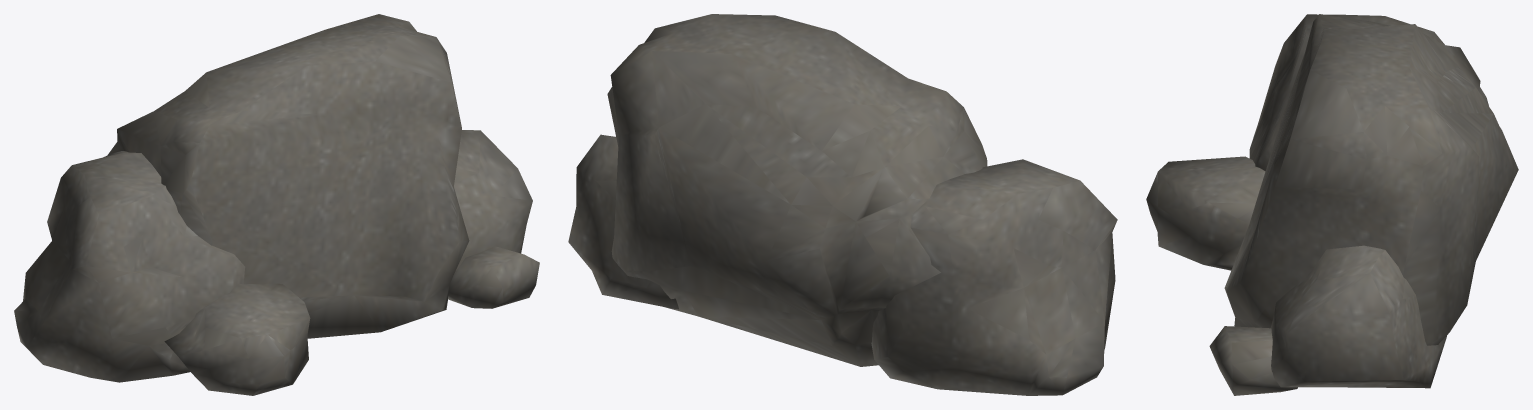
The model's file is coastal_outcrop_LOD2.fbx.
3 renders of one model, left to right at view 1: azimuth 30°, elevation 25°; view 2: azimuth 150°, elevation 25°; view 3: azimuth 270°, elevation 25°, orthographic. The views are drawn at different scales.
Visible parts, largest first — view 1: coastal_outcrop_LOD2; view 2: coastal_outcrop_LOD2; view 3: coastal_outcrop_LOD2.
Part boxes in pixels (x1,y1,x2,y2): coastal_outcrop_LOD2: [14, 14, 539, 395]; coastal_outcrop_LOD2: [568, 14, 1117, 395]; coastal_outcrop_LOD2: [1146, 14, 1518, 395].
Bounding box in the file's own units: 797 × 399 × 499.
